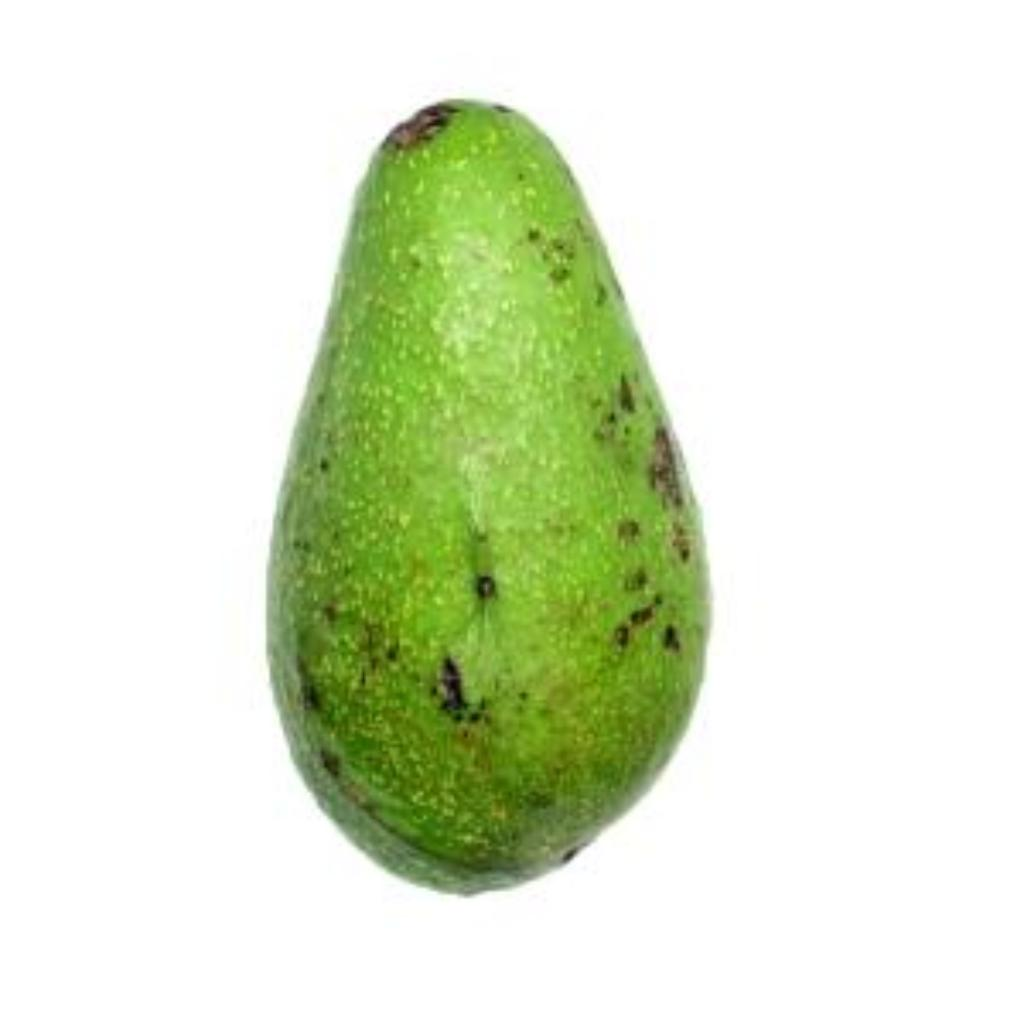cercospora: (250, 82, 721, 898)
